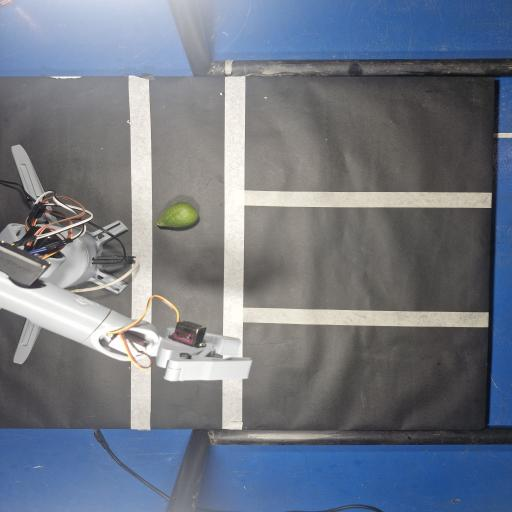higo: (157, 202, 198, 228)
